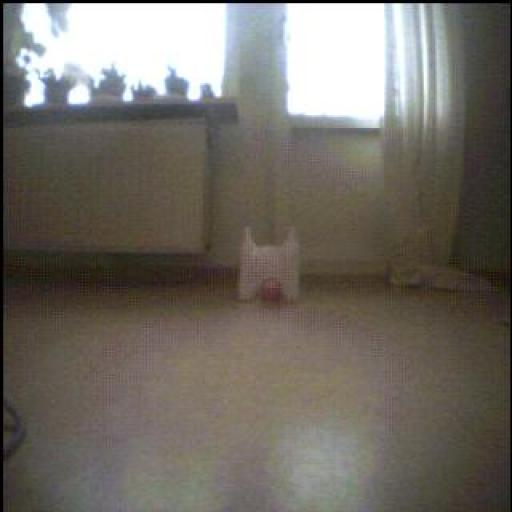Basket: (257, 274, 287, 309)
